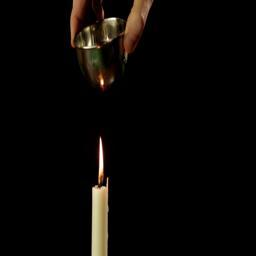fire: (99, 138, 104, 182)
